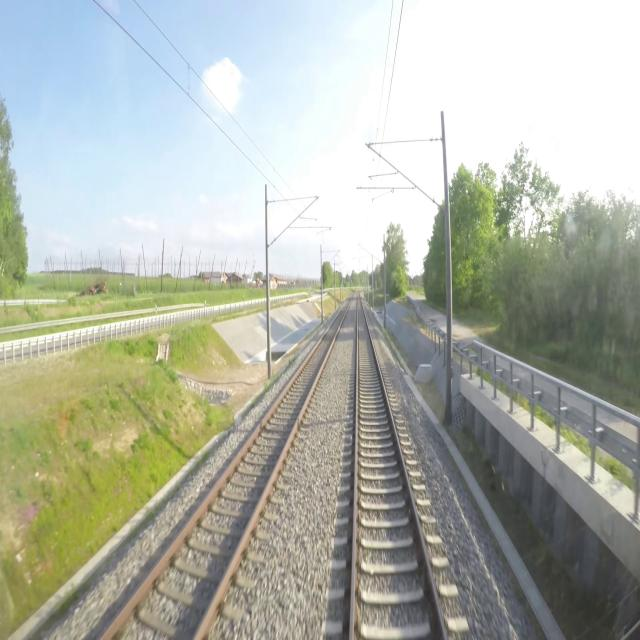rail-track: (102, 299, 350, 639), (355, 295, 443, 639)
